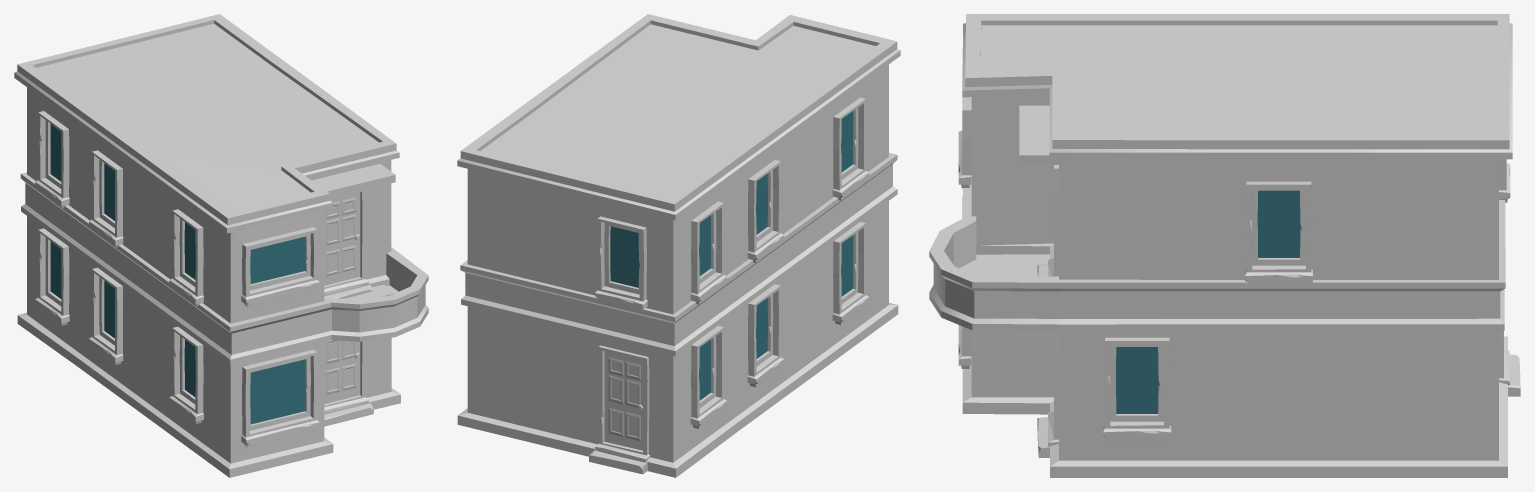
3 views of the same model, side by side, from view 1: azimuth 30°, elevation 25°; view 2: azimuth 150°, elevation 25°; view 3: azimuth 270°, elevation 25° (orthographic). The views are drawn at different scales.
Visible parts, largest first — view 1: SM_Bld_House_03, SM_Bld_House_03_Glass; view 2: SM_Bld_House_03, SM_Bld_House_03_Glass; view 3: SM_Bld_House_03, SM_Bld_House_03_Glass.
Part boxes in pixels (box(x1,y1,x2,y2)): SM_Bld_House_03: box(14, 14, 428, 477); SM_Bld_House_03_Glass: box(50, 124, 305, 424); SM_Bld_House_03: box(457, 14, 900, 477); SM_Bld_House_03_Glass: box(610, 111, 852, 400); SM_Bld_House_03: box(929, 14, 1520, 477); SM_Bld_House_03_Glass: box(1116, 190, 1300, 413).
Size of the model in its own units: 5.62 by 6.65 by 10.61.
